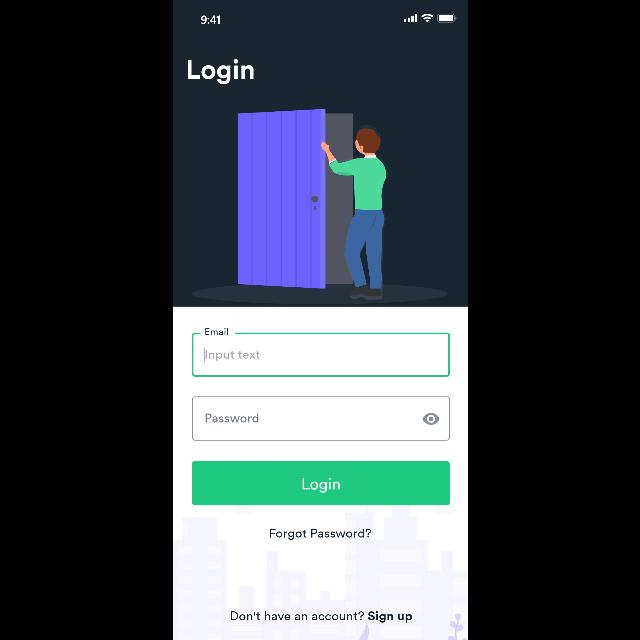icon: (422, 414, 440, 424)
image: (191, 110, 447, 304)
input: (191, 329, 449, 377), (191, 397, 449, 441)
text: (187, 60, 253, 84), (270, 528, 370, 540), (230, 612, 364, 620), (205, 350, 259, 360), (367, 611, 411, 623), (205, 414, 258, 422), (205, 328, 228, 336)
textbutton: (191, 461, 449, 505)
uppertaskbar: (200, 13, 456, 24)
